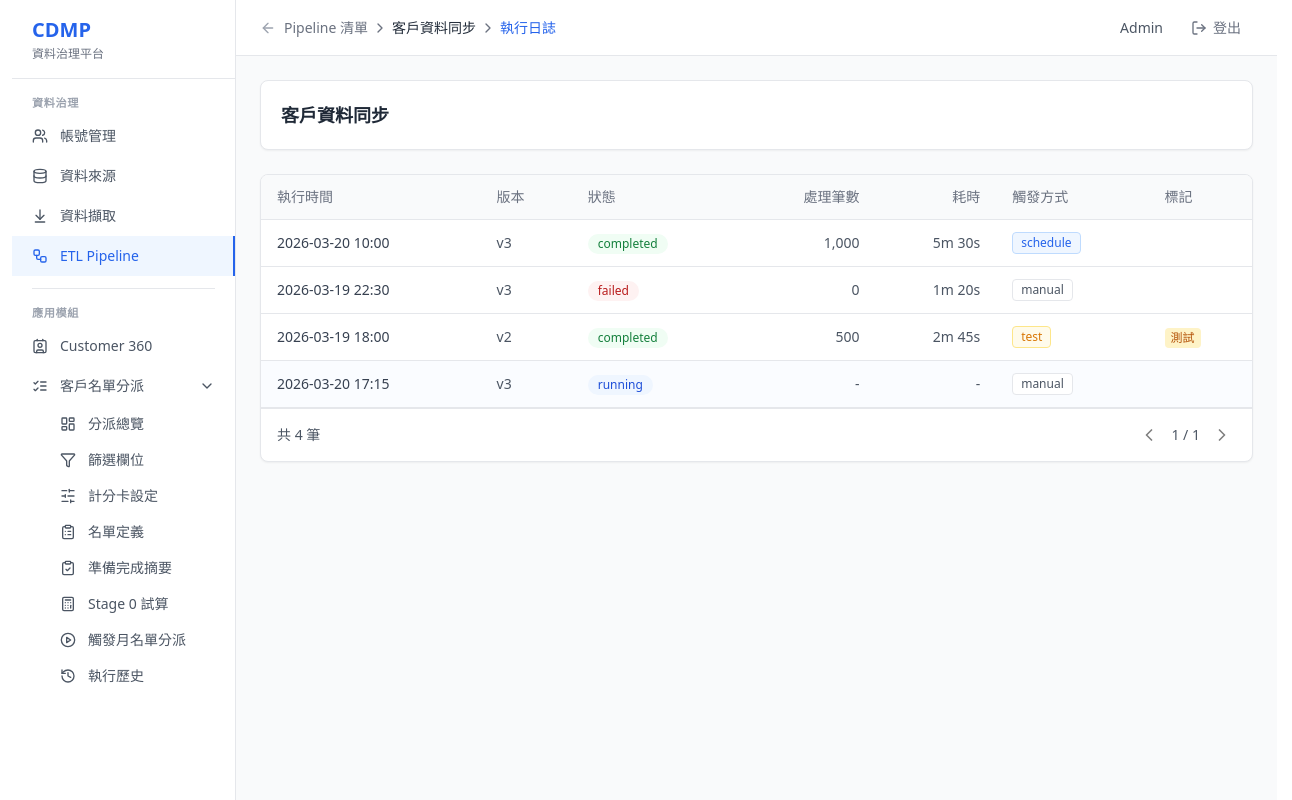
F032: Pipeline Logs Page › should show running drawer with progress info
The image size is (1292, 800).
Click the row with test id "log-row-log-4".
click(756, 384)  # box [261,360,1252,408]
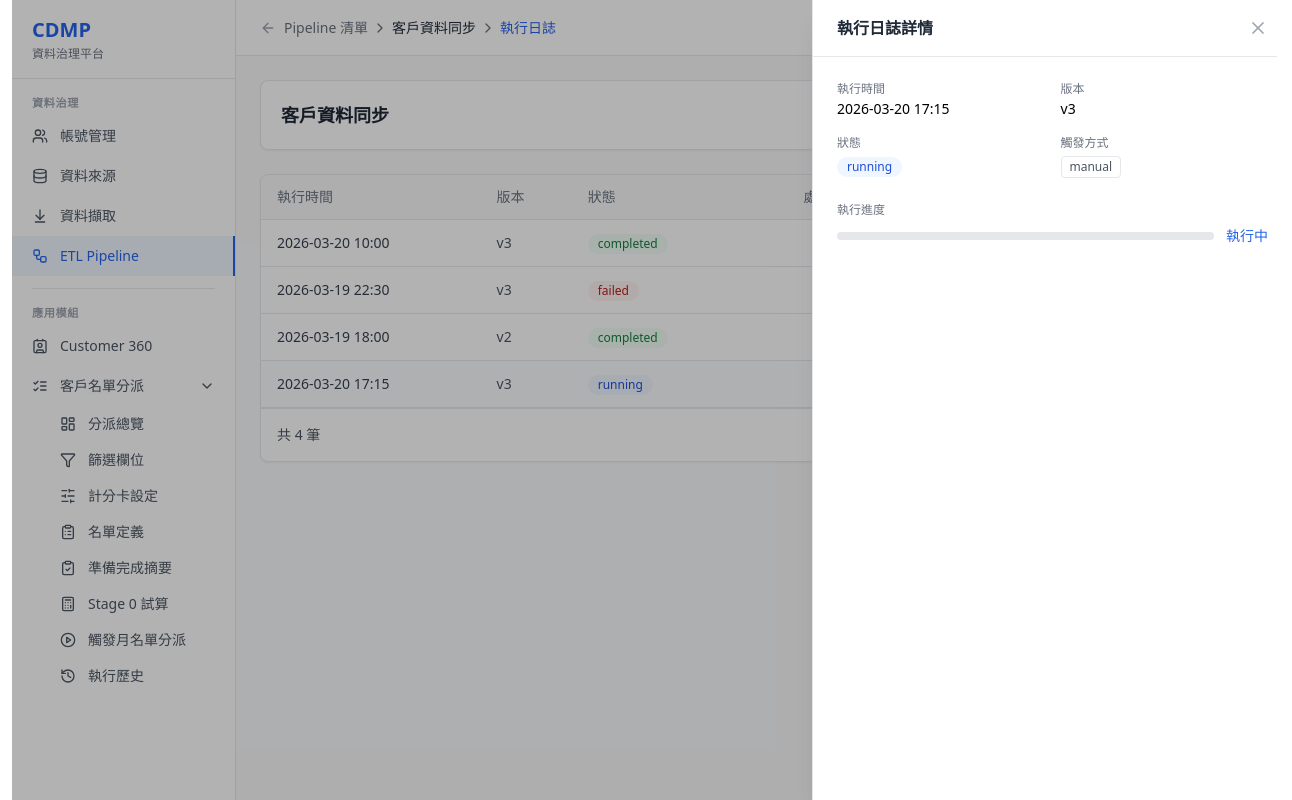
Result: the text "執行中" is shown at [1226,226,1268,246]
